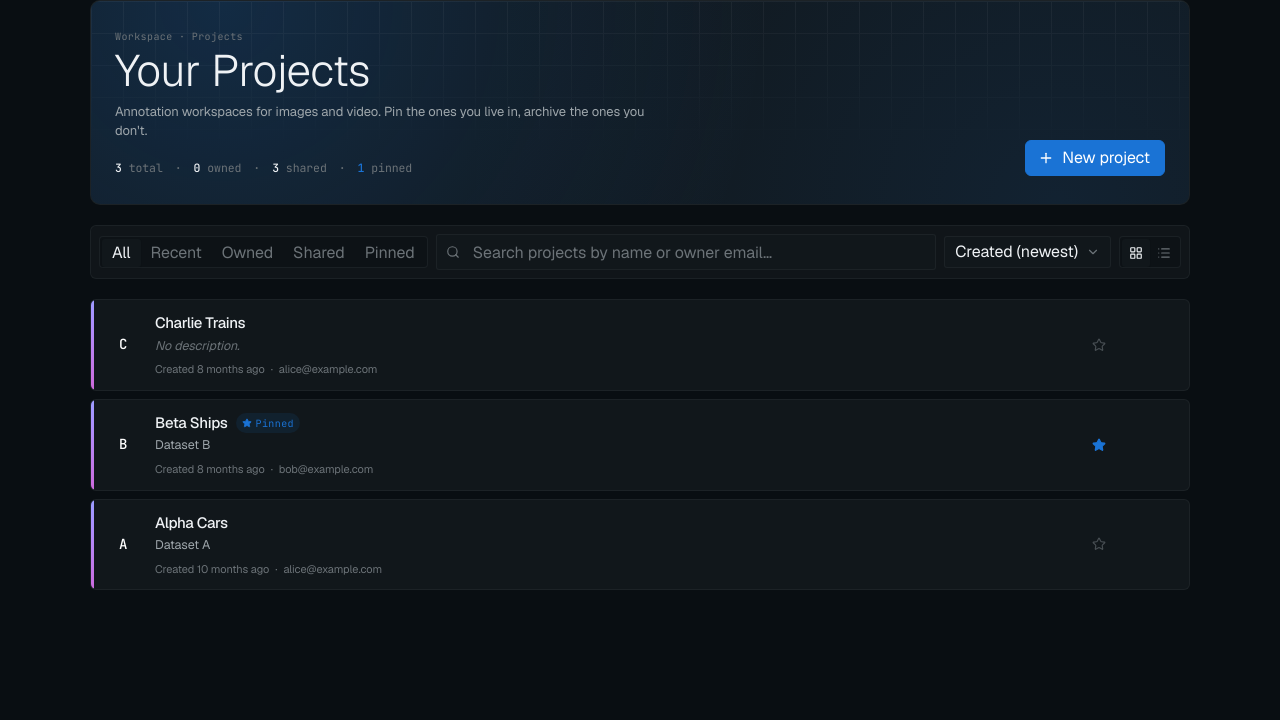
ProjectsToolbar › the Pinned filter chip shows only pinned projects
Expected: the heading "Alpha Cars" is shown, [155,512,228,534]
Click the tab with test id "projects-toolbar-filter-pinned".
click(390, 253)  # box [355,239,425,267]
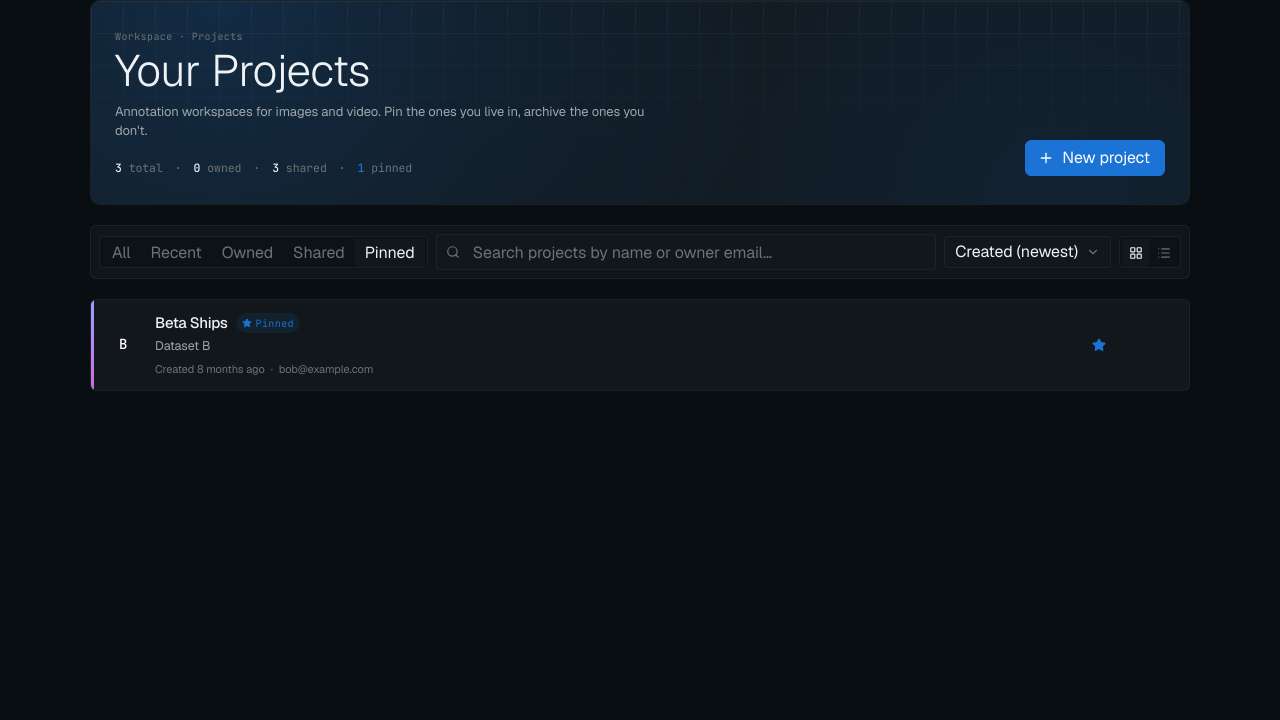
Expected: the heading "Beta Ships" is shown, [155,312,228,334]
Expected: the link "Alpha Cars" is gone
Expected: the link "Charlie Trains" is gone
